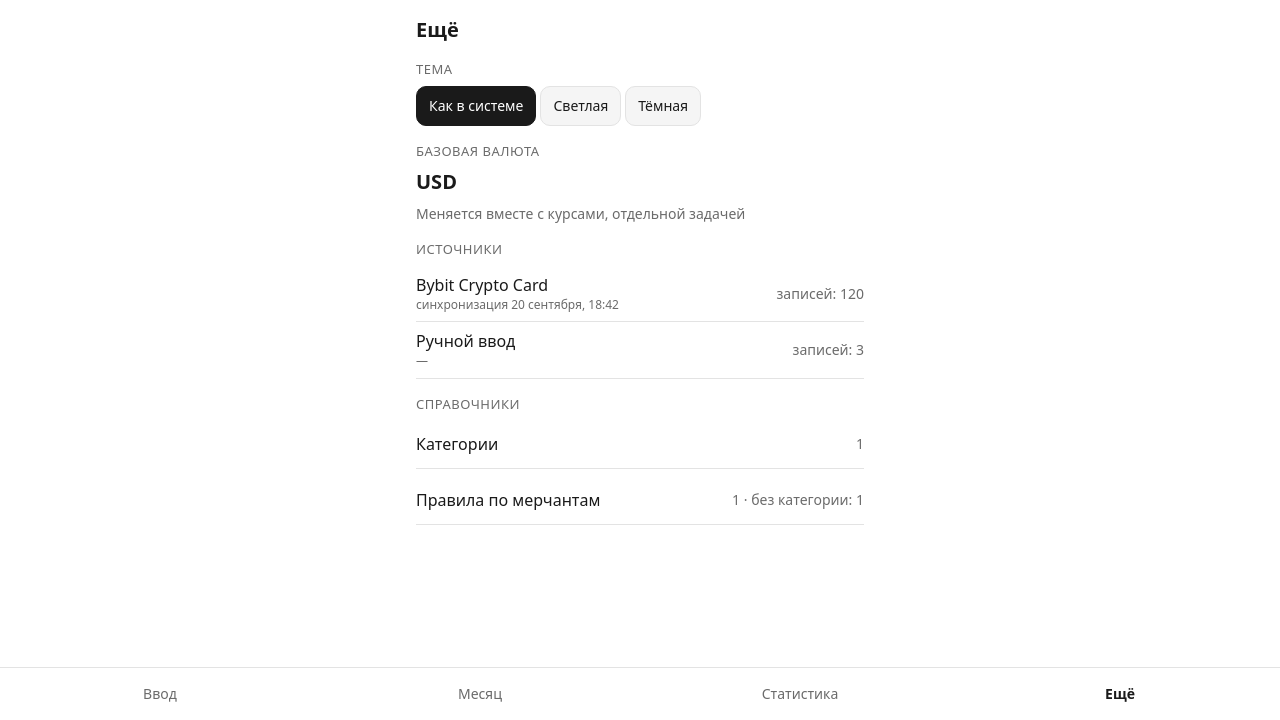
Test case: SettingsScreen › переименование источника вызывает app_source_rename и показывает тост
The width and height of the screenshot is (1280, 720).
Step 1. Click the button "Ручной ввод — записей: 3" → [466, 341], box [416,322,864,378]
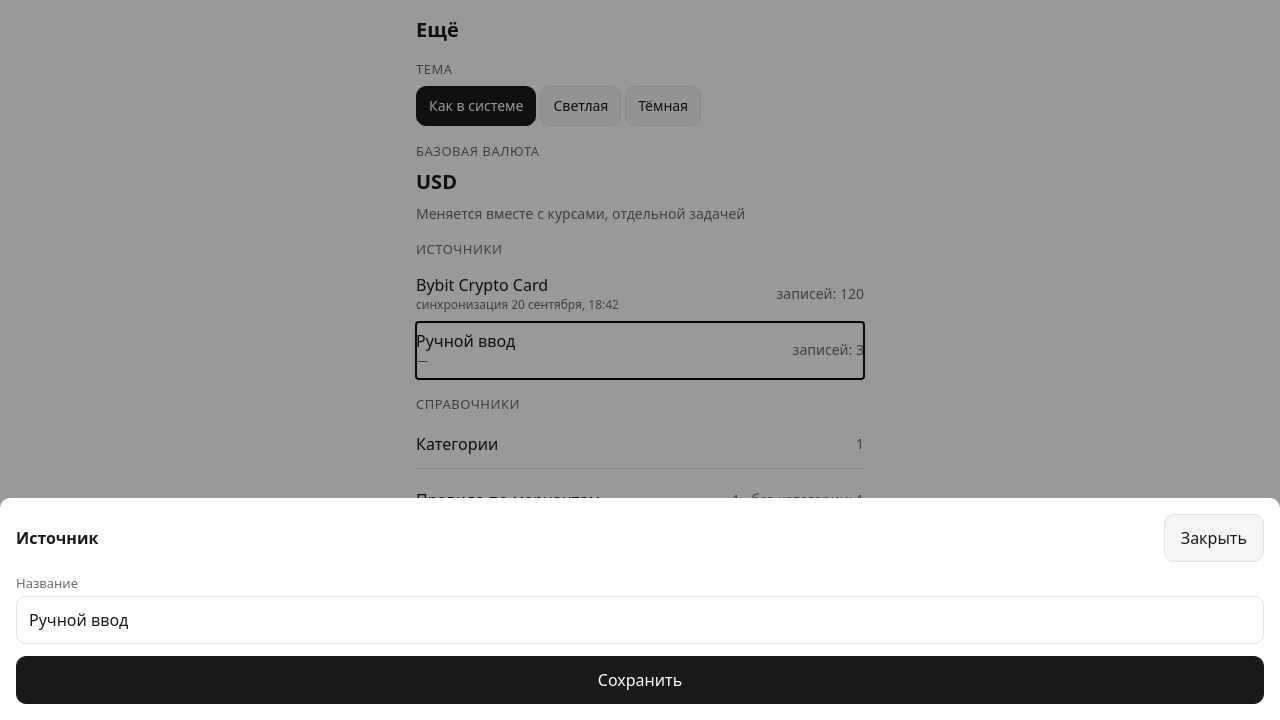
Step 2. Replace the text in the field labelled "Название" with "Наличные" → [640, 620], box [16,596,1264,644]
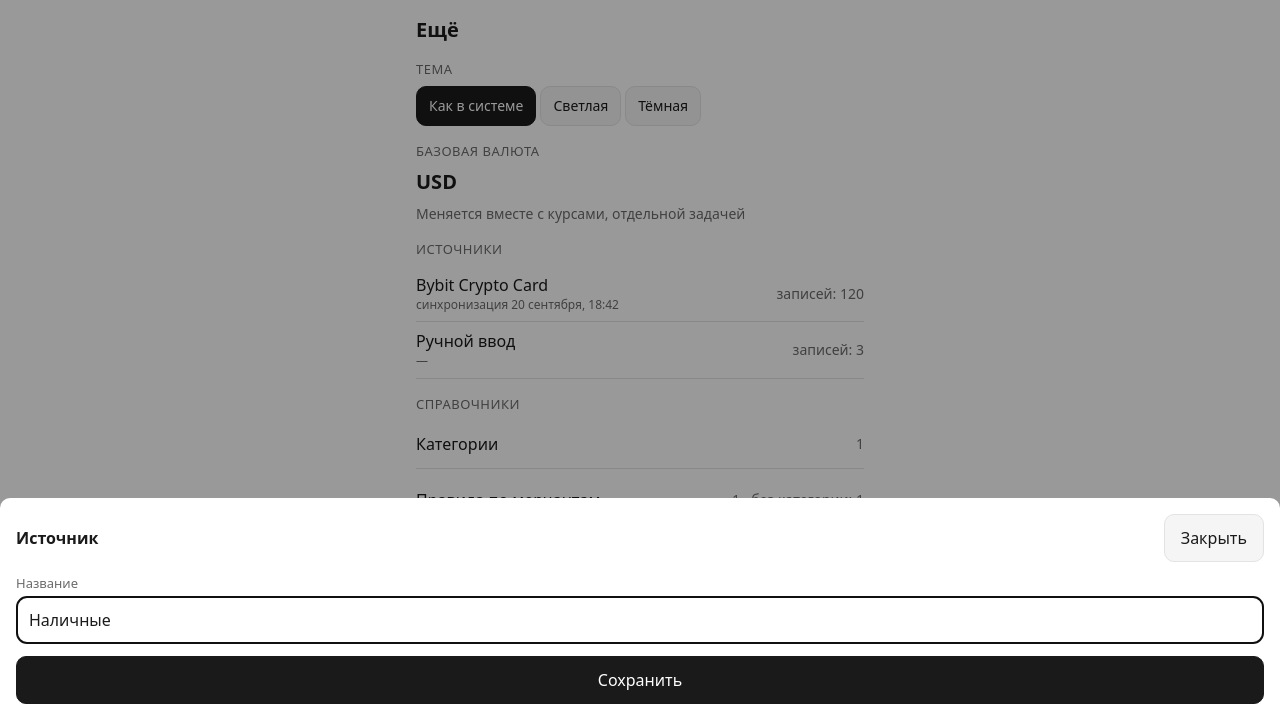
Step 3. Click the button "Сохранить" → [640, 680], box [16,656,1264,704]
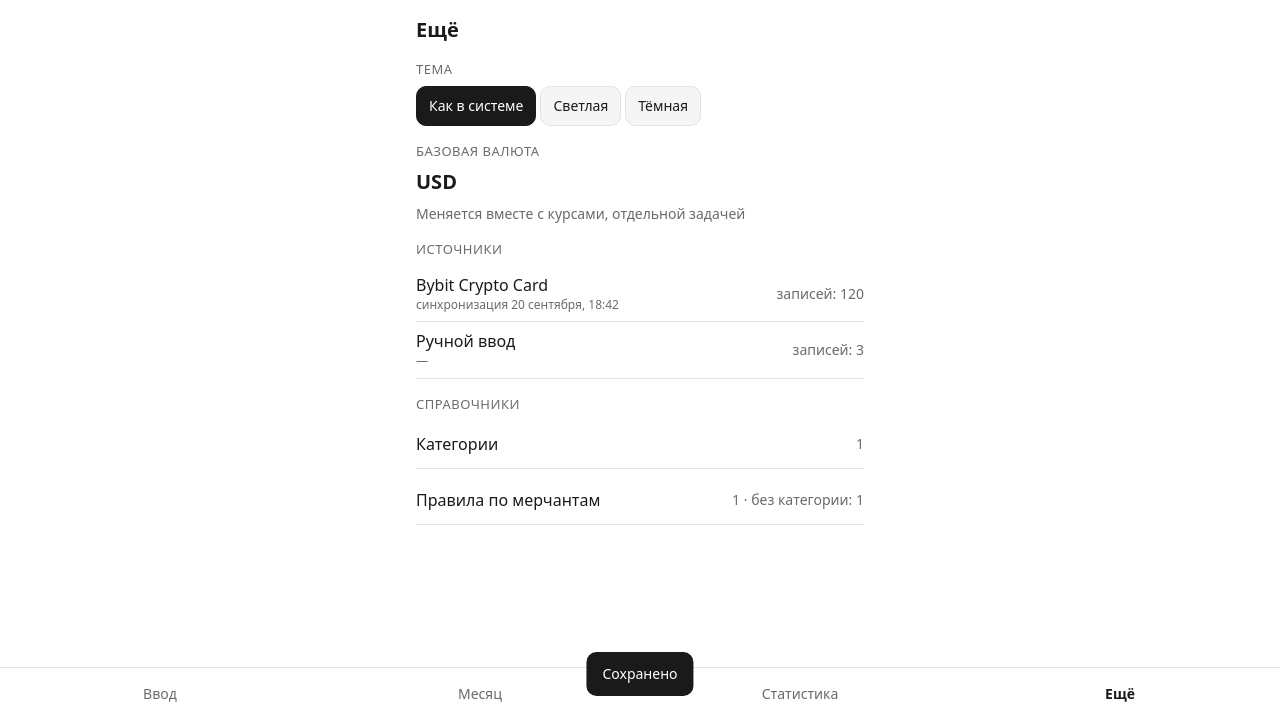
Result: the message reads "Сохранено" at [602,664,678,683]
Result: the dialog is gone
